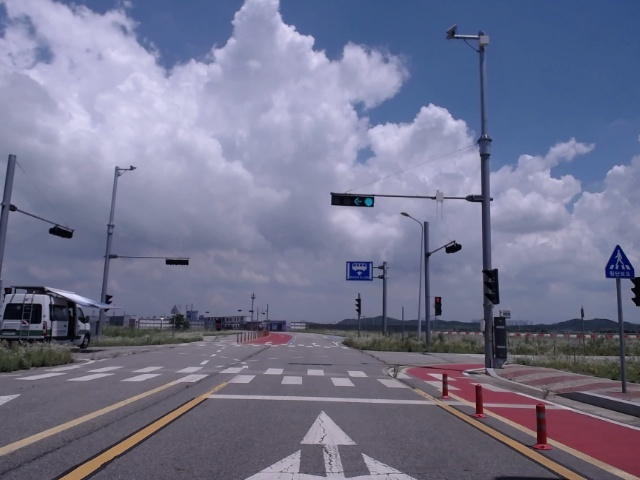all_green_4: (331, 194, 376, 205)
